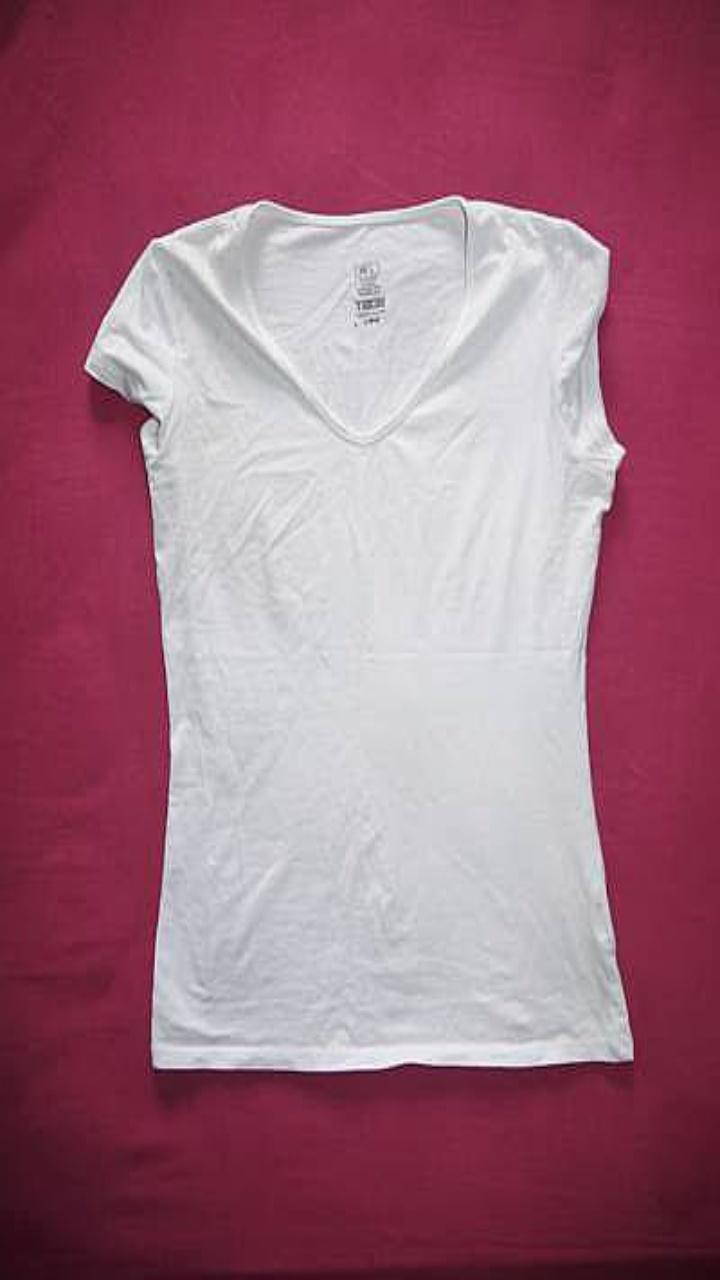T-Shirt: (84, 195, 633, 1069)
